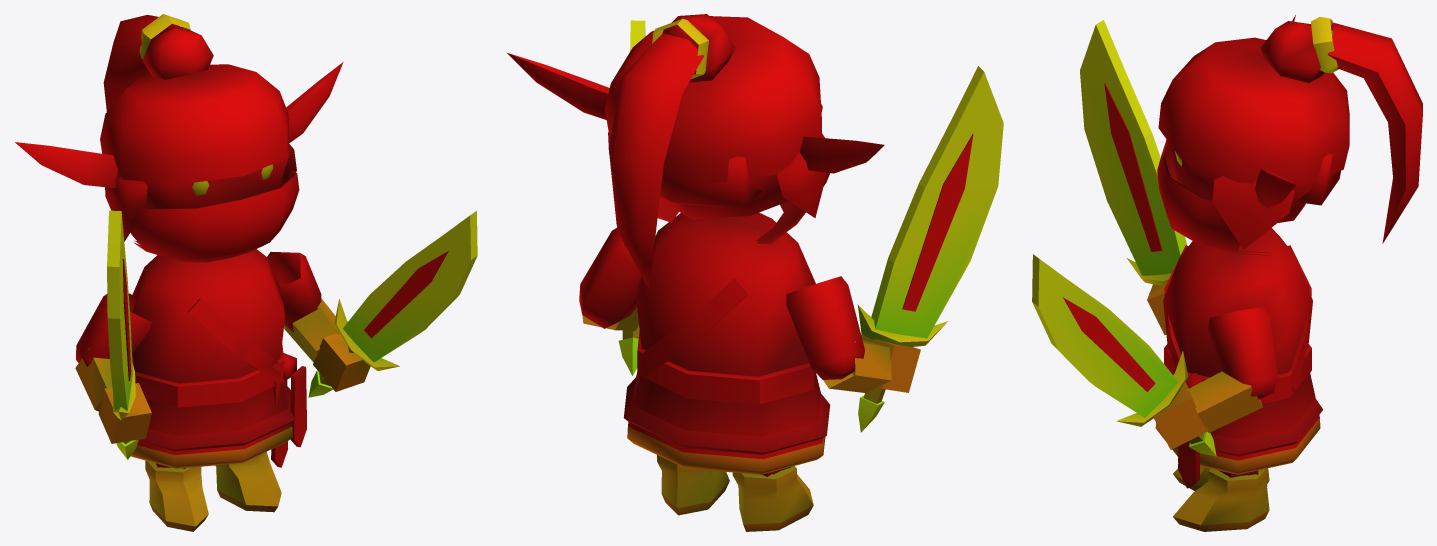
Rendered from DarkElfAssassin_LOD1.glb.
3 renders of one model, left to right at view 1: azimuth 30°, elevation 25°; view 2: azimuth 150°, elevation 25°; view 3: azimuth 270°, elevation 25°, orthographic. The views are drawn at different scales.
Visible parts, largest first — view 1: DarkElfAssassin_LOD1; view 2: DarkElfAssassin_LOD1; view 3: DarkElfAssassin_LOD1.
Part boxes in pixels (left/top/right/bottom): DarkElfAssassin_LOD1: left=15, top=14, right=477, bottom=531; DarkElfAssassin_LOD1: left=507, top=14, right=1003, bottom=531; DarkElfAssassin_LOD1: left=1032, top=15, right=1422, bottom=531.
Bounding box in the file's own units: 0.6964 × 0.8767 × 0.6379.
